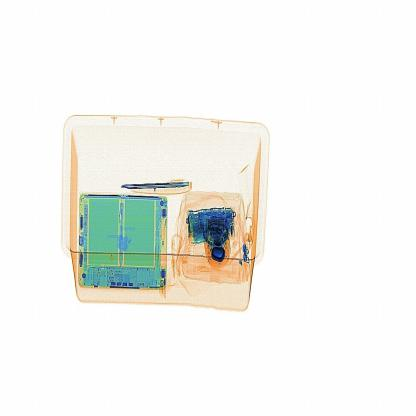pliers: (124, 180, 197, 195)
